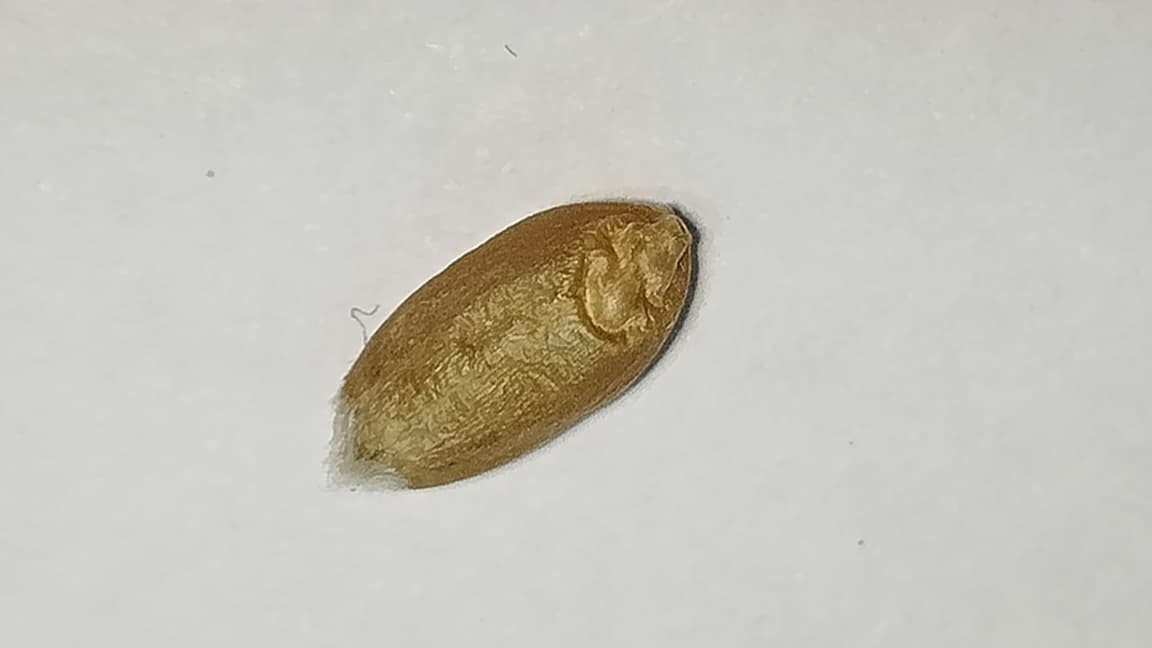healthy: (334, 201, 697, 487)
